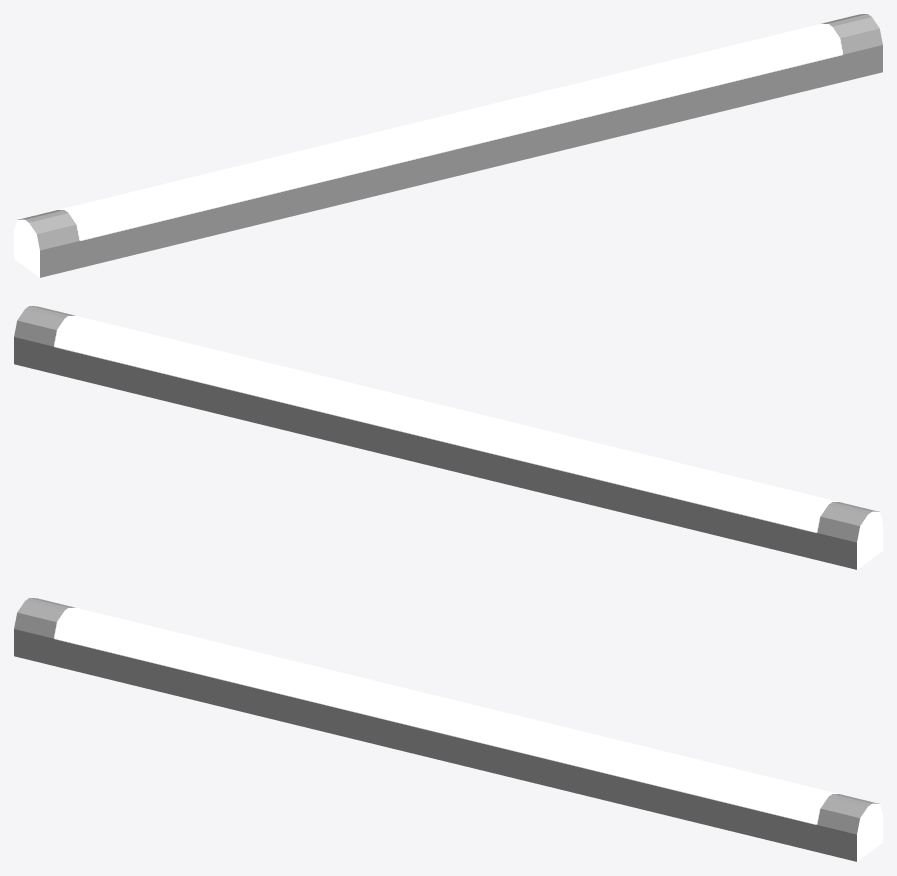
Rendered from FLight.fbx.
The picture shows the model from 3 angles, top to bottom: view 1: azimuth 30°, elevation 25°; view 2: azimuth 150°, elevation 25°; view 3: azimuth 330°, elevation 25°; orthographic projection.
Visible parts, largest first — view 1: FLight; view 2: FLight; view 3: FLight.
Boxes of the visible parts, x1,y1,x2,y2 form: FLight: [14, 14, 882, 277]; FLight: [14, 306, 882, 569]; FLight: [14, 598, 882, 861].
Size of the model in its own units: 285 by 15.25 by 15.25.
